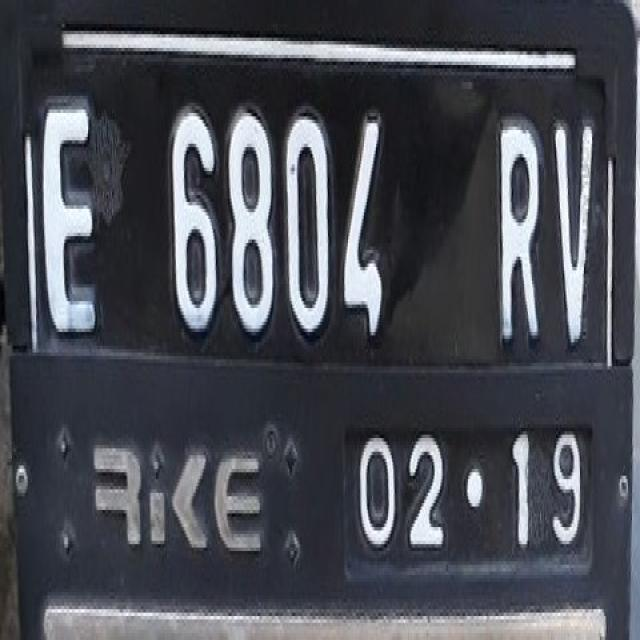plate: (17, 8, 614, 604)
